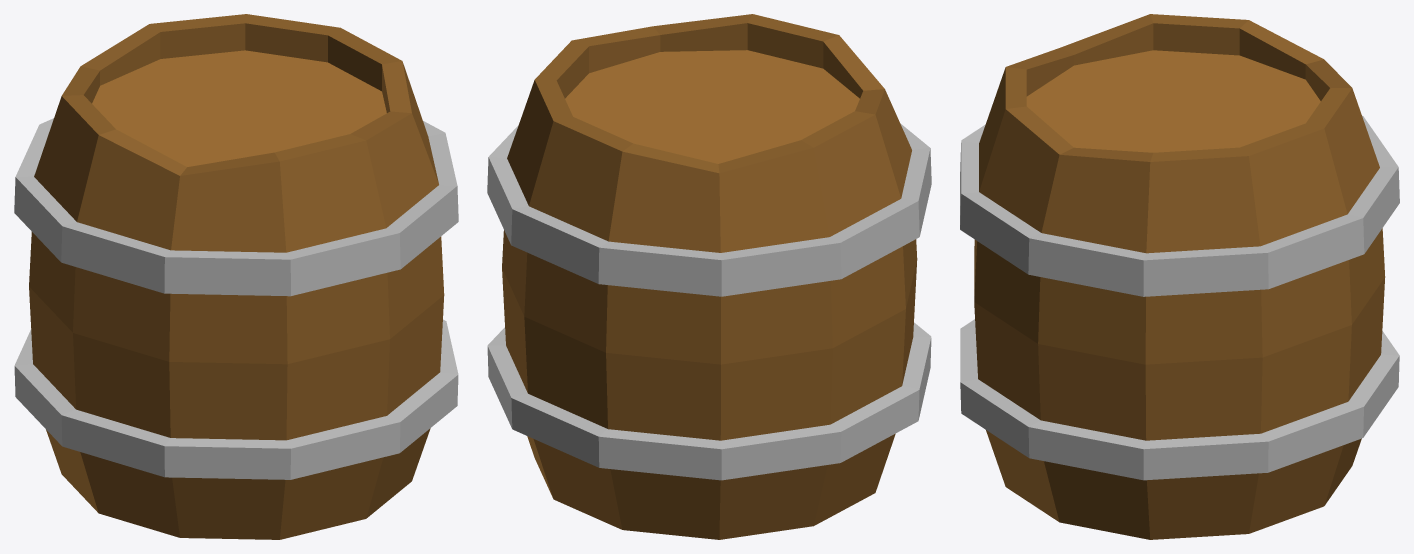
File: Barrel.glb
3 views of the same model, side by side, from view 1: azimuth 30°, elevation 25°; view 2: azimuth 150°, elevation 25°; view 3: azimuth 270°, elevation 25° (orthographic).
Visible parts, largest first — view 1: Cylinder; view 2: Cylinder; view 3: Cylinder.
Boxes of the visible parts, box(x1,y1,x2,y2) form: Cylinder: box(14, 14, 458, 539); Cylinder: box(487, 14, 931, 539); Cylinder: box(960, 14, 1399, 539).
Bounding box in the file's own units: 2.51 × 2.36 × 2.49.
